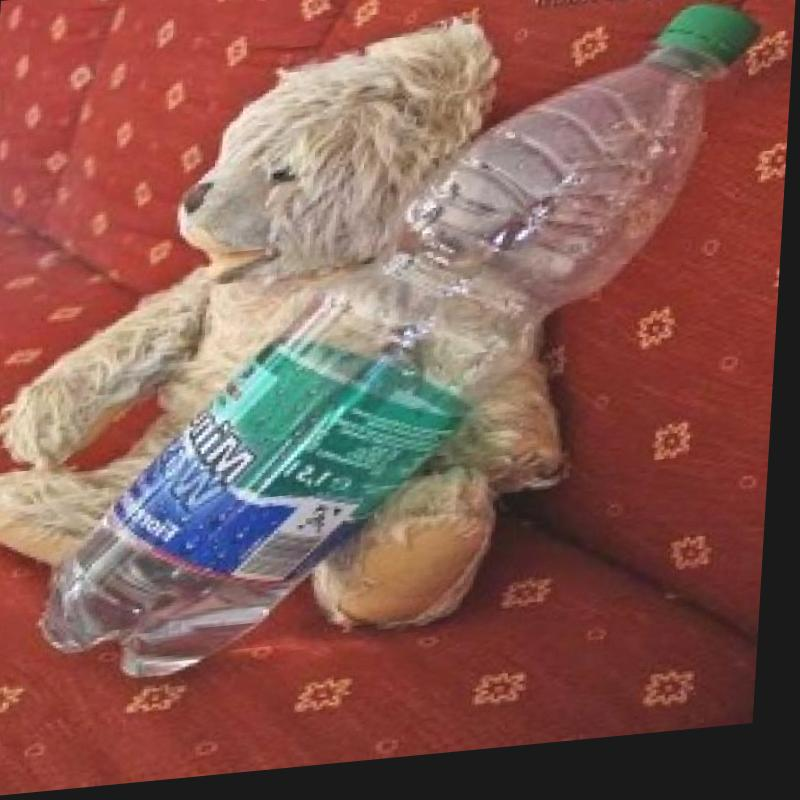botella: (39, 7, 763, 698)
